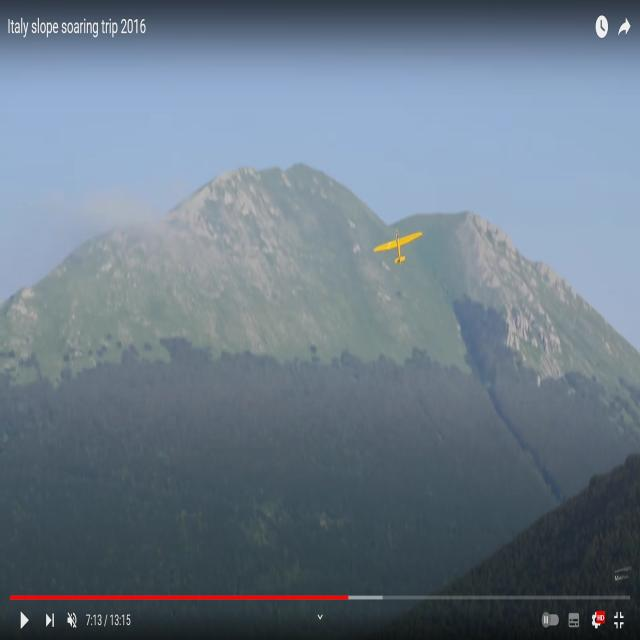iha: (379, 222, 423, 264)
